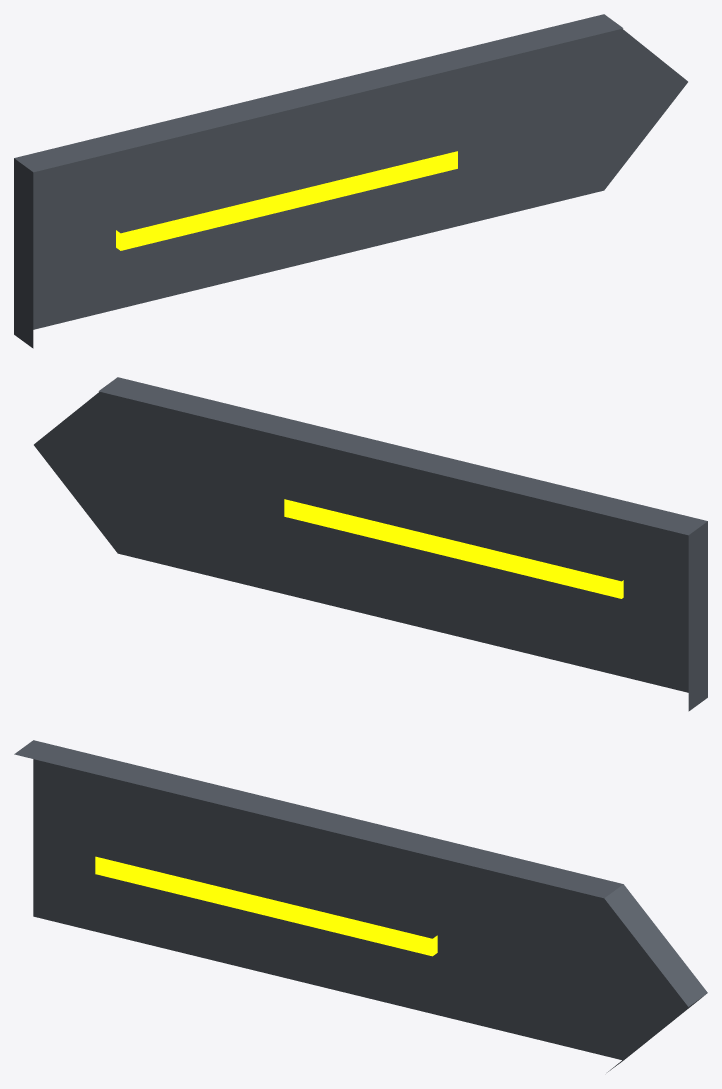
The model's file is ext_street_blade_05.glb.
3 renders of one model, top to bottom at view 1: azimuth 30°, elevation 25°; view 2: azimuth 150°, elevation 25°; view 3: azimuth 330°, elevation 25°, orthographic.
Visible parts, largest first — view 1: Blade, Chevron; view 2: Blade, Chevron; view 3: Blade, Chevron.
Part boxes in pixels (x1,y1,x2,y2): Blade: (14, 14, 687, 348); Chevron: (116, 151, 457, 250); Blade: (34, 377, 707, 711); Chevron: (284, 499, 623, 598); Blade: (14, 740, 707, 1072); Chevron: (95, 856, 437, 956).
Bounding box in the file's own units: 0.8 × 0.2 × 0.046.
